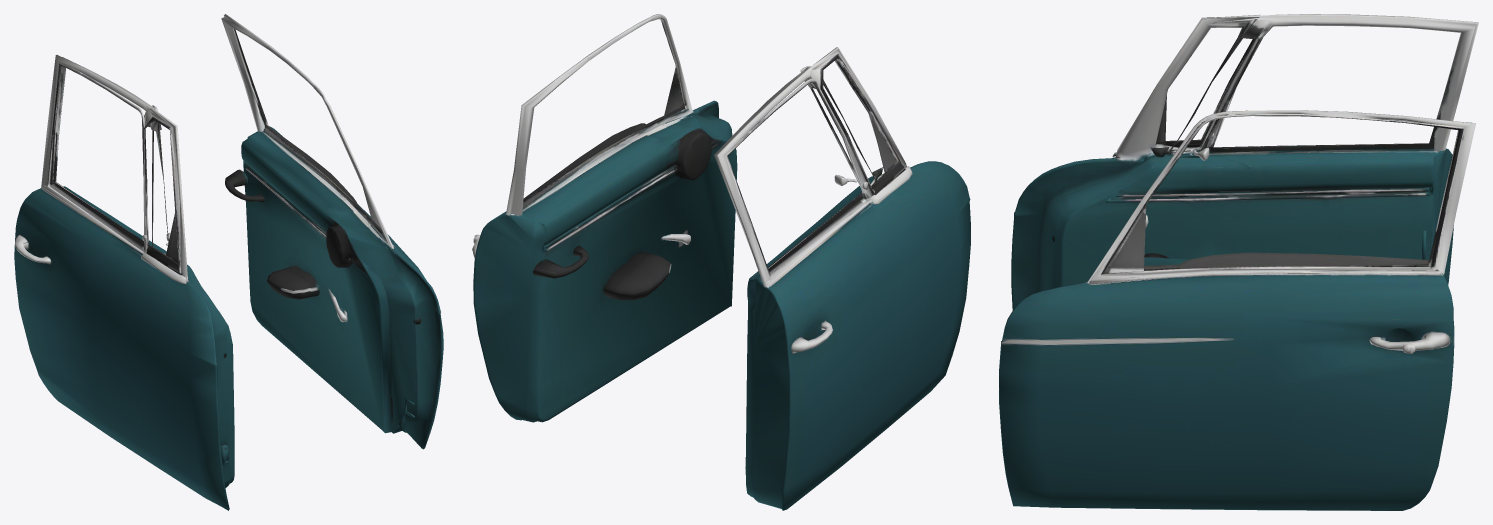
File: original_glb.glb
The picture shows the model from 3 angles, left to right: view 1: azimuth 30°, elevation 25°; view 2: azimuth 150°, elevation 25°; view 3: azimuth 270°, elevation 25°; orthographic projection. The views are drawn at different scales.
Parts seen in each view (by area): view 1: right front door; view 2: right front door; view 3: right front door.
Part boxes in pixels (x1,y1,x2,y2): right front door: (14, 14, 443, 510); right front door: (472, 14, 970, 510); right front door: (999, 14, 1478, 510).
Size of the model in its own units: 0.8887 by 0.9395 by 0.998.
Materials: 1 (1 with a texture image).
